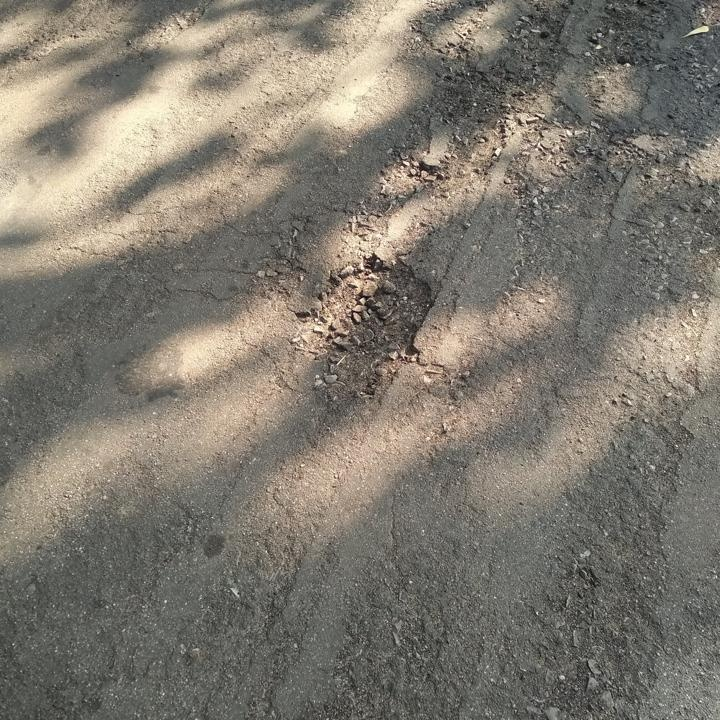pothole: (291, 259, 443, 397)
